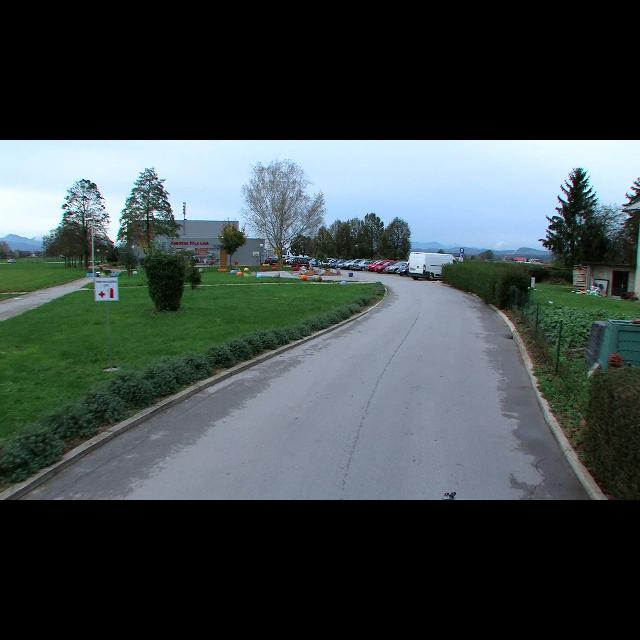Squared: (94, 276, 118, 302)
